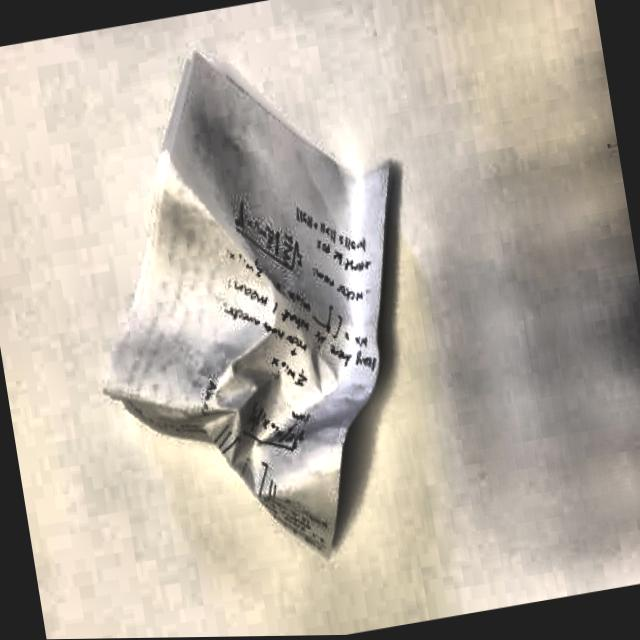Paper: (48, 17, 472, 611)
